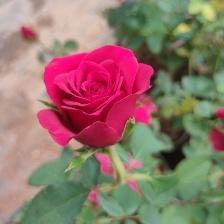rose: (37, 43, 157, 150)
